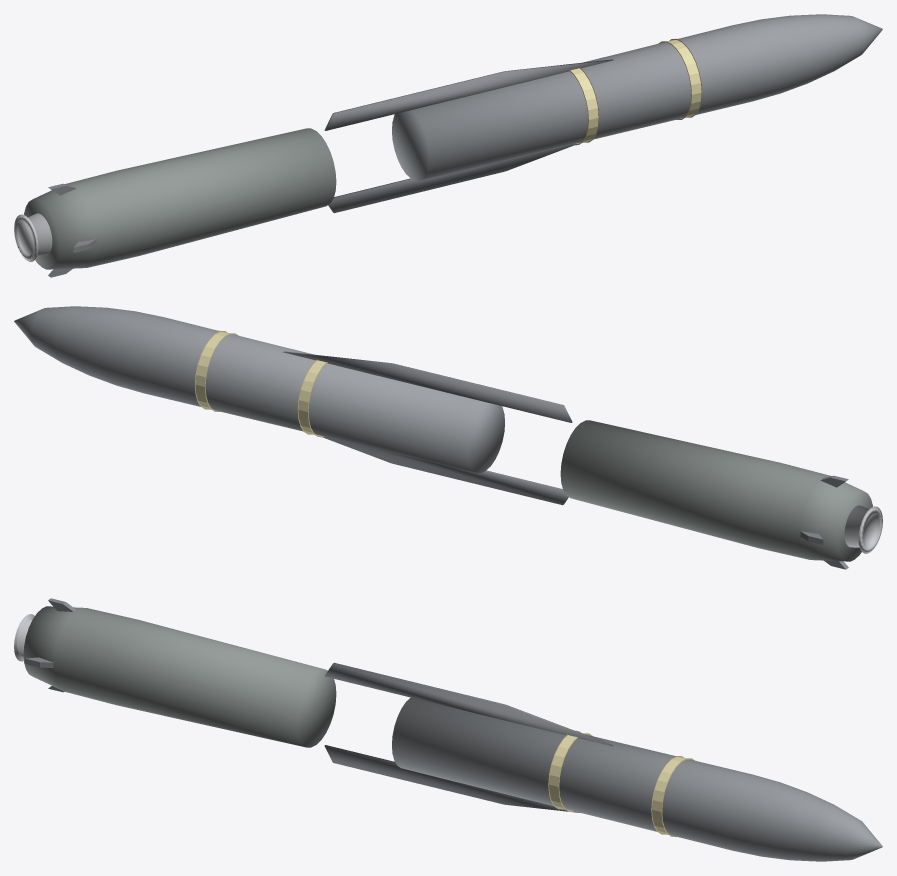
Rendered from US_ASW_SUBROC_LOD1.fbx.
3 renders of one model, top to bottom at view 1: azimuth 30°, elevation 25°; view 2: azimuth 150°, elevation 25°; view 3: azimuth 330°, elevation 25°, orthographic.
Parts seen in each view (by area): view 1: WPN_US_ASW_SUBROC_LOD1_Body, WPN_US_ASW_SUBROC_LOD1_Tail, WPN_US_ASW_SUBROC_LOD1_Detail, WPN_US_ASW_SUBROC_LOD1_Marking, WPN_US_ASW_SUBROC_LOD1_Propulsor, WPN_US_ASW_SUBROC_LOD1_Fins; view 2: WPN_US_ASW_SUBROC_LOD1_Body, WPN_US_ASW_SUBROC_LOD1_Tail, WPN_US_ASW_SUBROC_LOD1_Detail, WPN_US_ASW_SUBROC_LOD1_Marking, WPN_US_ASW_SUBROC_LOD1_Propulsor, WPN_US_ASW_SUBROC_LOD1_Fins; view 3: WPN_US_ASW_SUBROC_LOD1_Body, WPN_US_ASW_SUBROC_LOD1_Tail, WPN_US_ASW_SUBROC_LOD1_Detail, WPN_US_ASW_SUBROC_LOD1_Marking, WPN_US_ASW_SUBROC_LOD1_Fins.
Part boxes in pixels (bbox=[...]): WPN_US_ASW_SUBROC_LOD1_Body: bbox=[392, 14, 882, 180]; WPN_US_ASW_SUBROC_LOD1_Tail: bbox=[24, 128, 336, 269]; WPN_US_ASW_SUBROC_LOD1_Detail: bbox=[324, 59, 613, 213]; WPN_US_ASW_SUBROC_LOD1_Marking: bbox=[569, 38, 702, 145]; WPN_US_ASW_SUBROC_LOD1_Propulsor: bbox=[14, 213, 52, 261]; WPN_US_ASW_SUBROC_LOD1_Fins: bbox=[48, 183, 96, 277]; WPN_US_ASW_SUBROC_LOD1_Body: bbox=[14, 306, 504, 472]; WPN_US_ASW_SUBROC_LOD1_Tail: bbox=[560, 420, 872, 561]; WPN_US_ASW_SUBROC_LOD1_Detail: bbox=[283, 351, 572, 505]; WPN_US_ASW_SUBROC_LOD1_Marking: bbox=[194, 330, 327, 437]; WPN_US_ASW_SUBROC_LOD1_Propulsor: bbox=[844, 505, 882, 553]; WPN_US_ASW_SUBROC_LOD1_Fins: bbox=[800, 475, 848, 569]; WPN_US_ASW_SUBROC_LOD1_Body: bbox=[392, 697, 882, 861]; WPN_US_ASW_SUBROC_LOD1_Tail: bbox=[23, 606, 336, 747]; WPN_US_ASW_SUBROC_LOD1_Detail: bbox=[324, 662, 613, 812]; WPN_US_ASW_SUBROC_LOD1_Marking: bbox=[548, 730, 694, 837]; WPN_US_ASW_SUBROC_LOD1_Fins: bbox=[25, 598, 76, 692].
Size of the model in its own units: 6.7 by 0.6581 by 0.7409.
